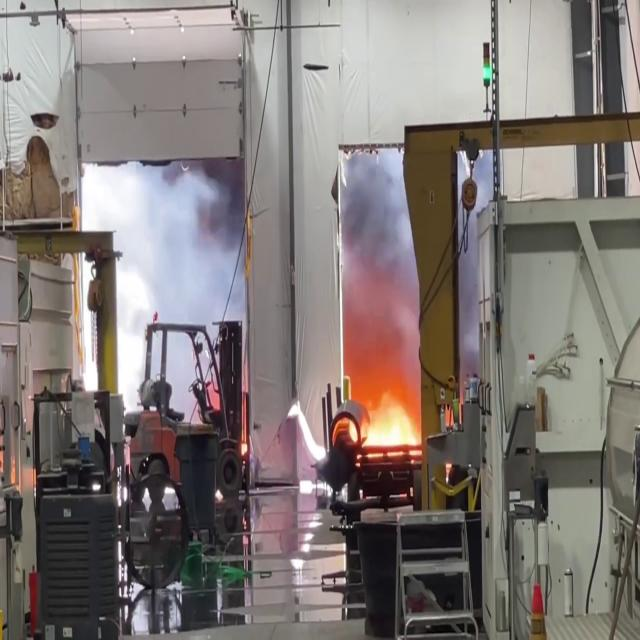Fire: (346, 378, 426, 463)
Smoke: (84, 160, 253, 401), (328, 142, 418, 378)
